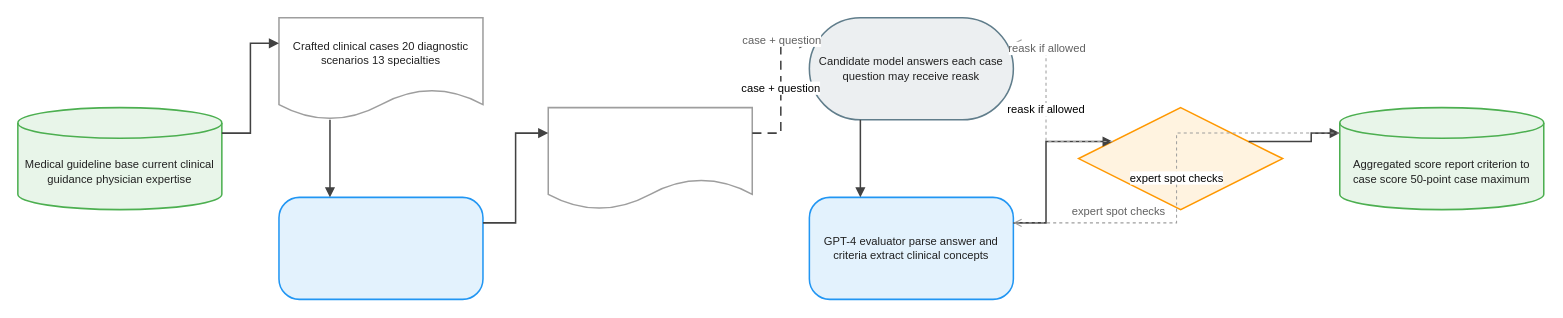
This 1563x318 diagram has some shape labels left out. The centre of each missing label's shape, as x and y in pixels:
Open-ended questions 135 real clinical prompts diagnosis and treatment: point 380,248
Repeated Boolean judging 11 parallel attempts majority vote and confidence: point 1180,158
Weighted criteria 1337 scoring elements guideline-derived checks: point 650,158
